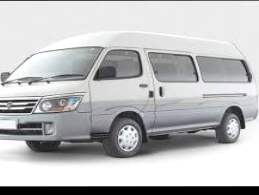van: (0, 27, 258, 154)
